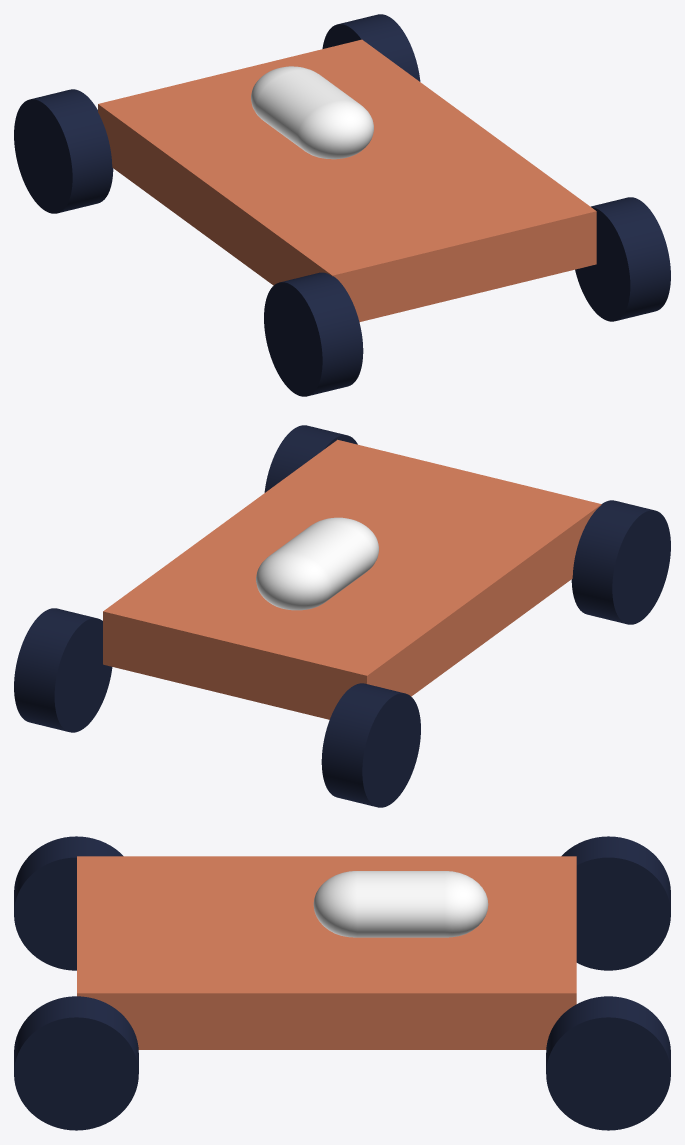
File: rover.gltf
3 views of the same model, one above another, from view 1: azimuth 30°, elevation 25°; view 2: azimuth 150°, elevation 25°; view 3: azimuth 270°, elevation 25° (orthographic). The views are drawn at different scales.
Visible parts, largest first — view 1: MeshInstance3D, MeshInstance3D2, MeshInstance3D3, MeshInstance3D5, MeshInstance3D22, MeshInstance3D4; view 2: MeshInstance3D, MeshInstance3D3, MeshInstance3D2, MeshInstance3D4, MeshInstance3D22, MeshInstance3D5; view 3: MeshInstance3D, MeshInstance3D4, MeshInstance3D5, MeshInstance3D3, MeshInstance3D22, MeshInstance3D2.
Boxes of the visible parts, x1,y1,x2,y2 form: MeshInstance3D: [98, 39, 596, 322]; MeshInstance3D2: [264, 272, 363, 396]; MeshInstance3D3: [14, 89, 113, 213]; MeshInstance3D5: [575, 197, 670, 321]; MeshInstance3D22: [251, 66, 373, 159]; MeshInstance3D4: [322, 14, 420, 81]; MeshInstance3D: [103, 439, 601, 719]; MeshInstance3D3: [321, 683, 420, 807]; MeshInstance3D2: [571, 500, 670, 624]; MeshInstance3D4: [14, 608, 112, 732]; MeshInstance3D22: [256, 517, 378, 610]; MeshInstance3D5: [264, 425, 357, 492]; MeshInstance3D: [77, 856, 576, 1049]; MeshInstance3D4: [546, 996, 670, 1130]; MeshInstance3D5: [14, 996, 138, 1130]; MeshInstance3D3: [561, 836, 670, 970]; MeshInstance3D22: [313, 871, 488, 937]; MeshInstance3D2: [14, 836, 123, 970].
Size of the model in its own units: 3.43 by 1.44 by 5.26.
